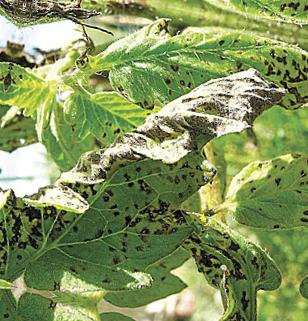Tomato Septoria leaf spot: (0, 19, 275, 321), (86, 0, 308, 146), (218, 115, 308, 243)
